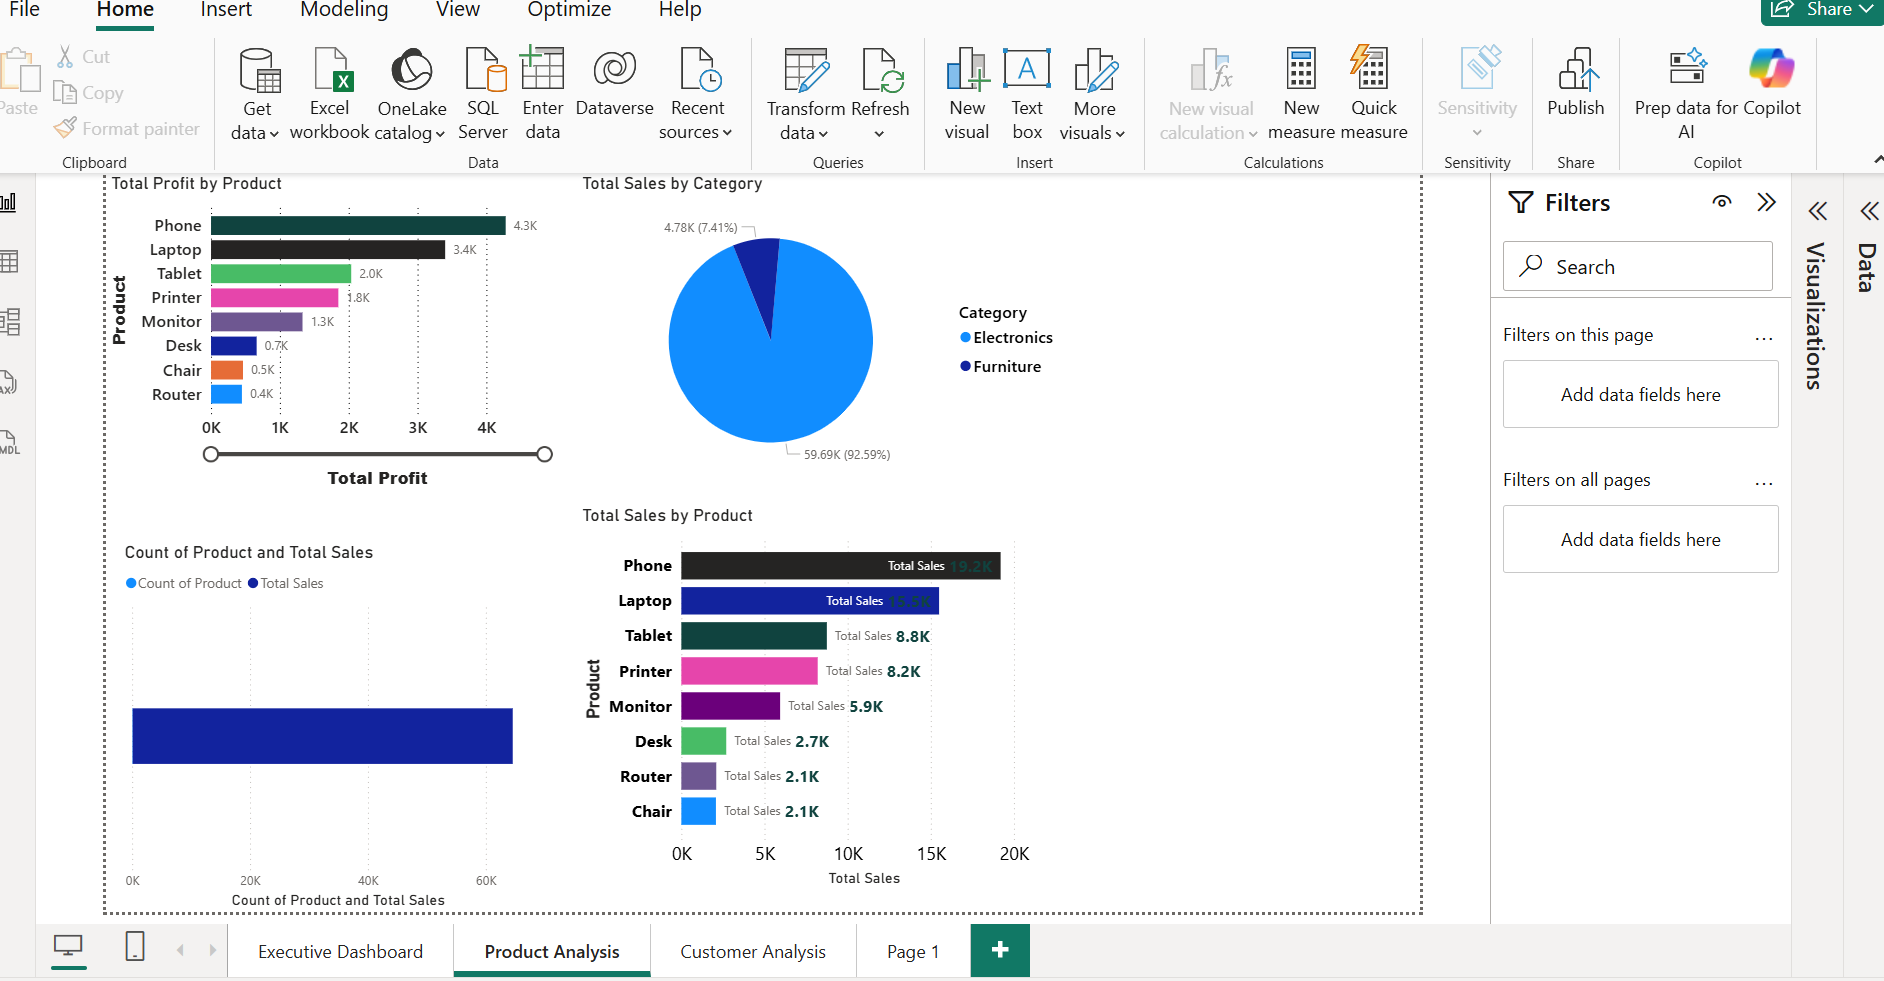

This screenshot's page, from the dashboard's own definition file:
{"tool":"powerbi","page":{"name":"Product Analysis","canvas":[1280,720],"ordinal":1},"visuals":[{"type":"barChart","fields":{"Y":["CountNonNull(SalesData.Product)","SalesData.Total Sales"]},"box":[13.2,359.1,429,360.9],"z":0},{"type":"barChart","fields":{"Category":["SalesData.Product"],"Y":["SalesData.Total Sales"]},"box":[459.2,323.2,478.1,376.1],"z":1000},{"type":"barChart","fields":{"Category":["SalesData.Product"],"Y":["SalesData.Total Profit"]},"box":[0,0,442.2,306.1],"z":2000},{"type":"pieChart","fields":{"Category":["SalesData.Category"],"Y":["SalesData.Total Sales"]},"box":[459.2,0,478.1,306.1],"z":3000}]}

Visuals, with their boxes on the page's 1280x720 design canvas (x1, y1, x2, y2). These are canvas units, not pixel positions in the 1884x981 screenshot, which may show the page scaled, cropped or inside an application window:
barChart - CountNonNull(SalesData.Product) x SalesData.Total Sales: bbox=(13, 359, 442, 720)
barChart - SalesData.Product x SalesData.Total Sales: bbox=(459, 323, 937, 699)
barChart - SalesData.Product x SalesData.Total Profit: bbox=(0, 0, 442, 306)
pieChart - SalesData.Category x SalesData.Total Sales: bbox=(459, 0, 937, 306)
